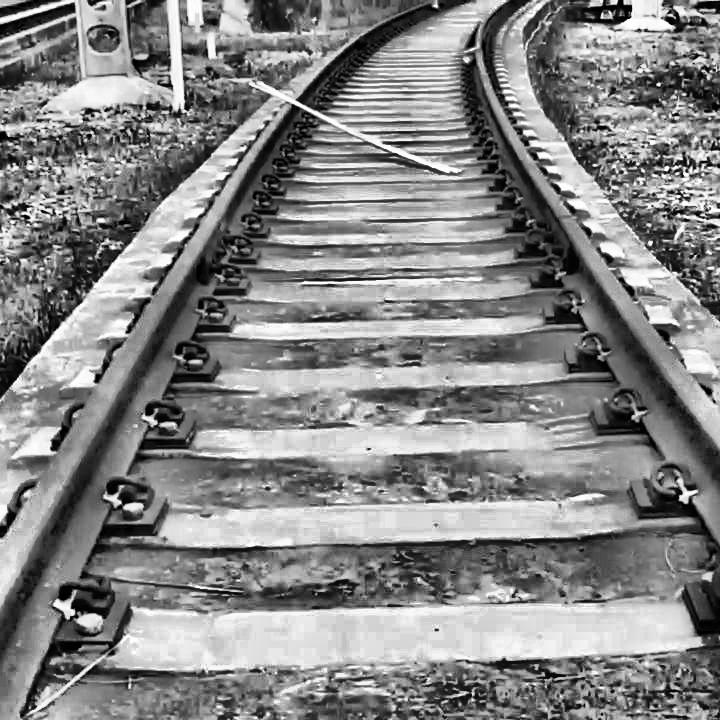Trash: (224, 58, 478, 181)
